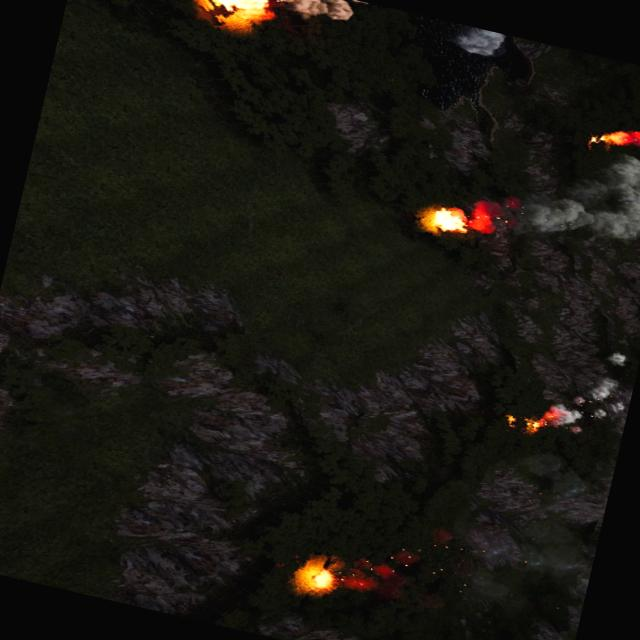fire: (189, 0, 275, 27), (423, 202, 472, 236), (591, 120, 640, 154), (292, 560, 337, 596), (501, 410, 546, 436)
smoke: (472, 67, 640, 268), (545, 367, 634, 443), (335, 539, 415, 604), (266, 0, 364, 31), (445, 21, 509, 60), (424, 525, 453, 548), (605, 350, 628, 366)
